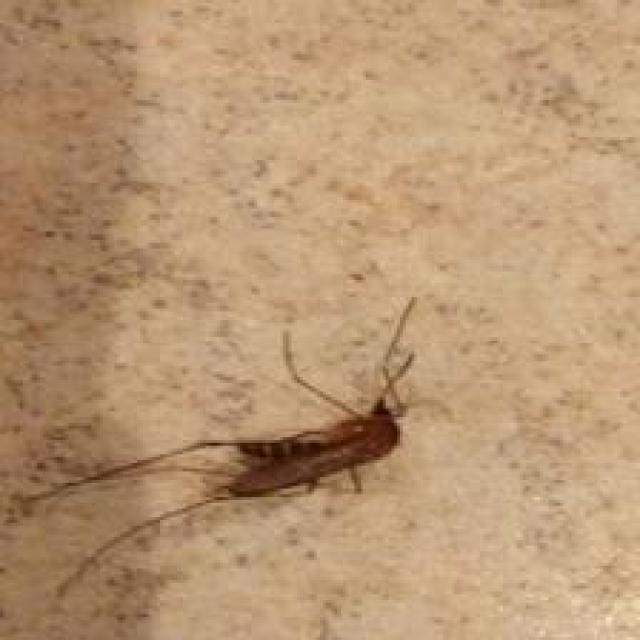Culex: (14, 294, 423, 603)
